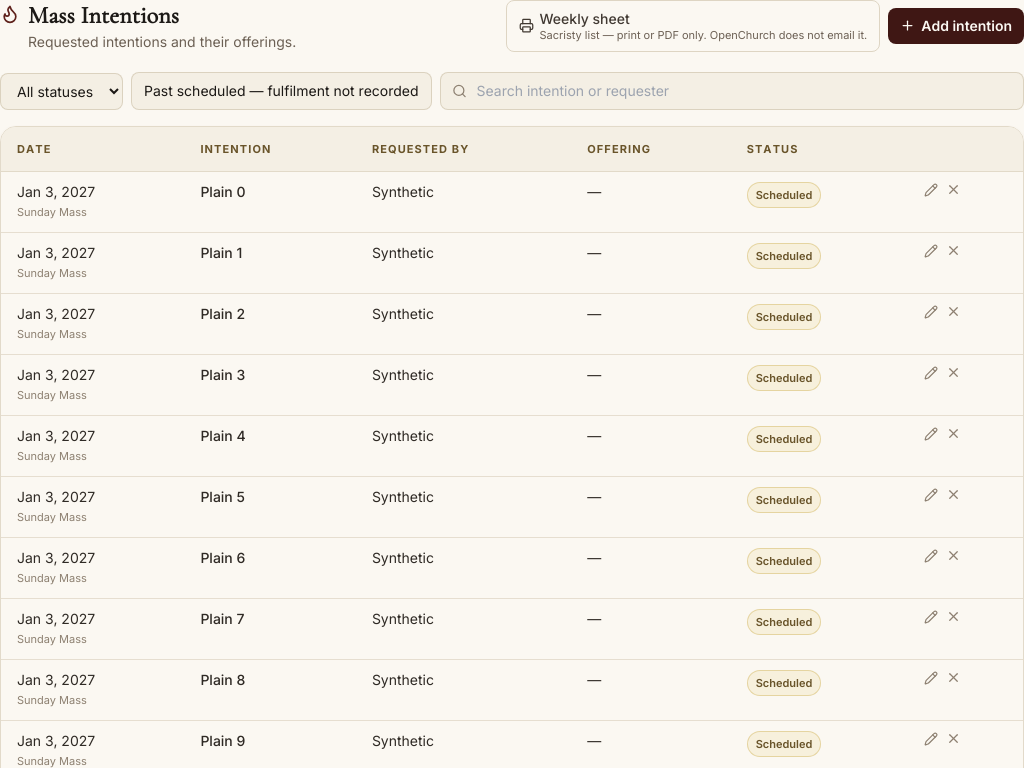
Test: R313-1 delta: save continuation owned from before the write await › PATCH pending → filter on → filtered page FAILS → PATCH resolves: the newer error stays, no stale rows; toast "updated"
Expected: the text "Plain 0" is shown, [184,172,356,232]
Click the button named "edit intention" in the row of "Plain 0" at (931, 190), box [924,182,938,196]
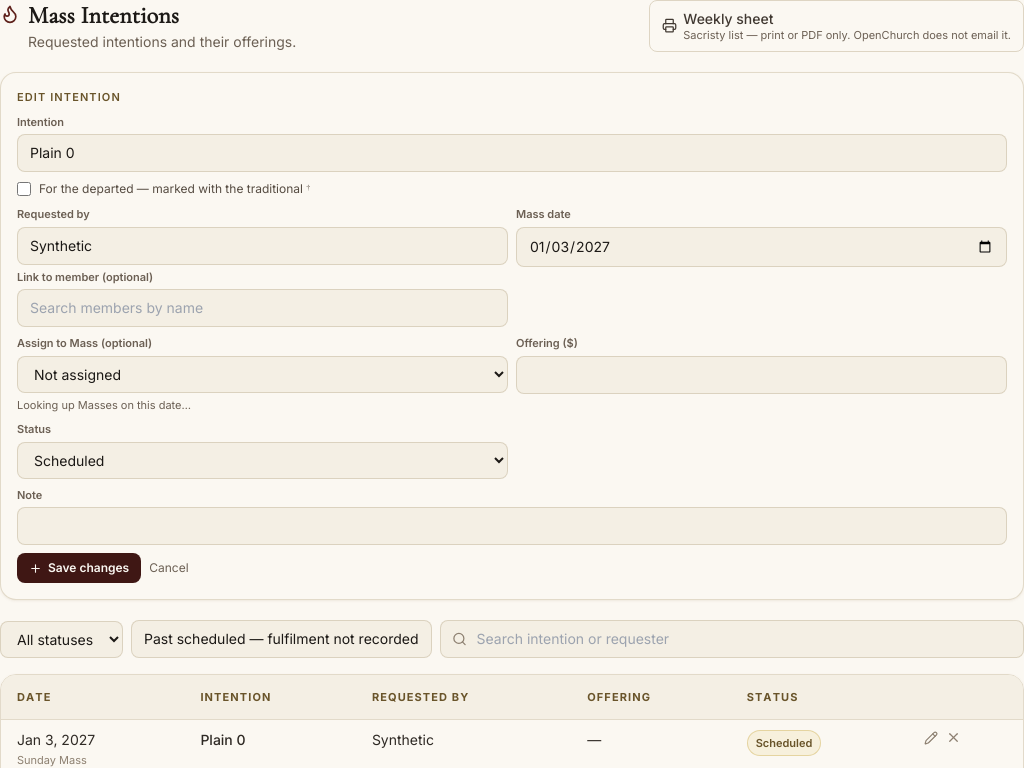
Click the button "Save changes" at (79, 568), box [17,553,141,583]
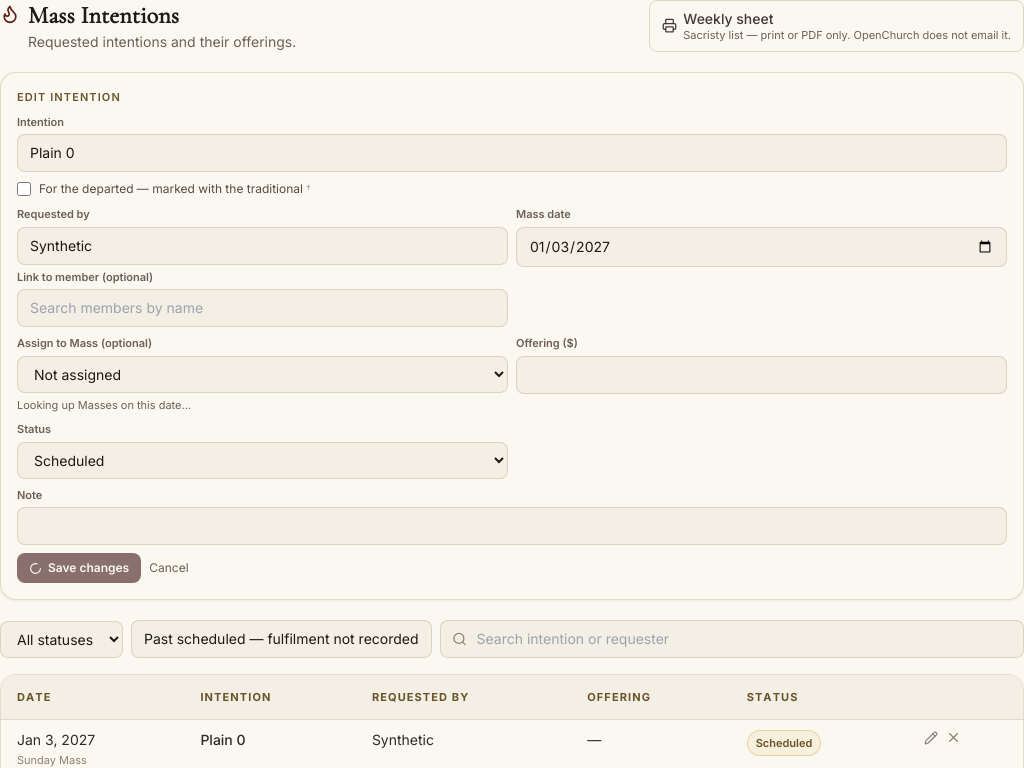
Click the button with test id "mi-past-filter" at (281, 639), box [131,620,432,658]
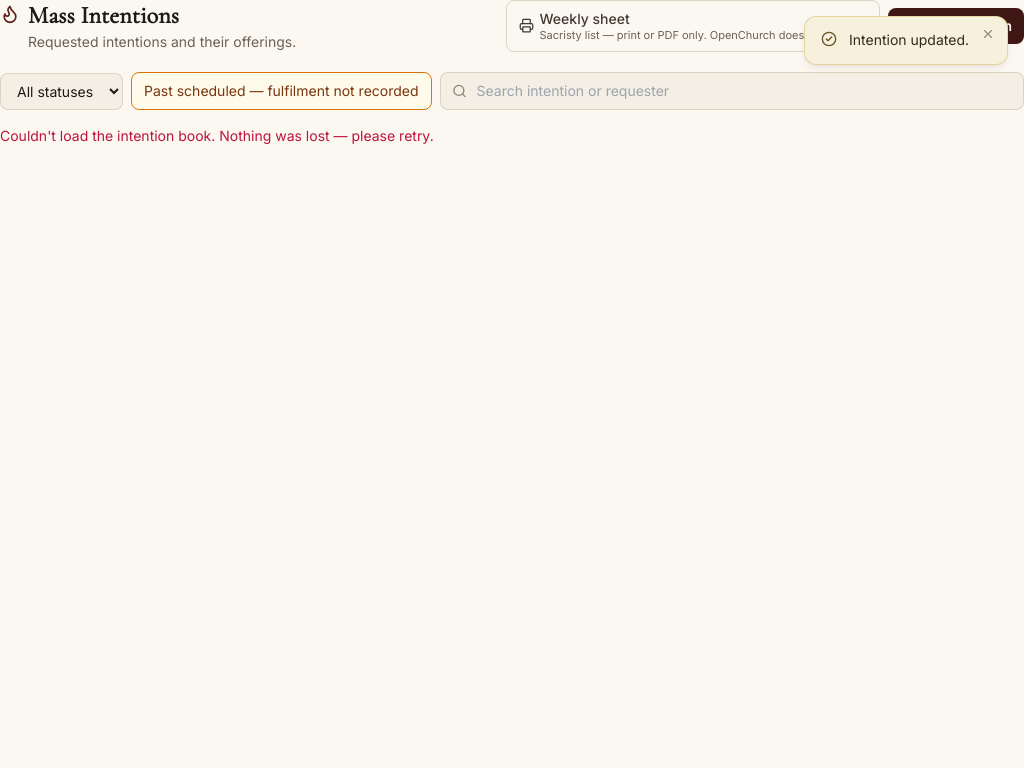
Expected: the text "Intention updated." is shown, [849,29,969,52]
Expected: the message "Couldn't load the intention book. Nothing was lost — please retry." is shown, [0,127,434,144]
